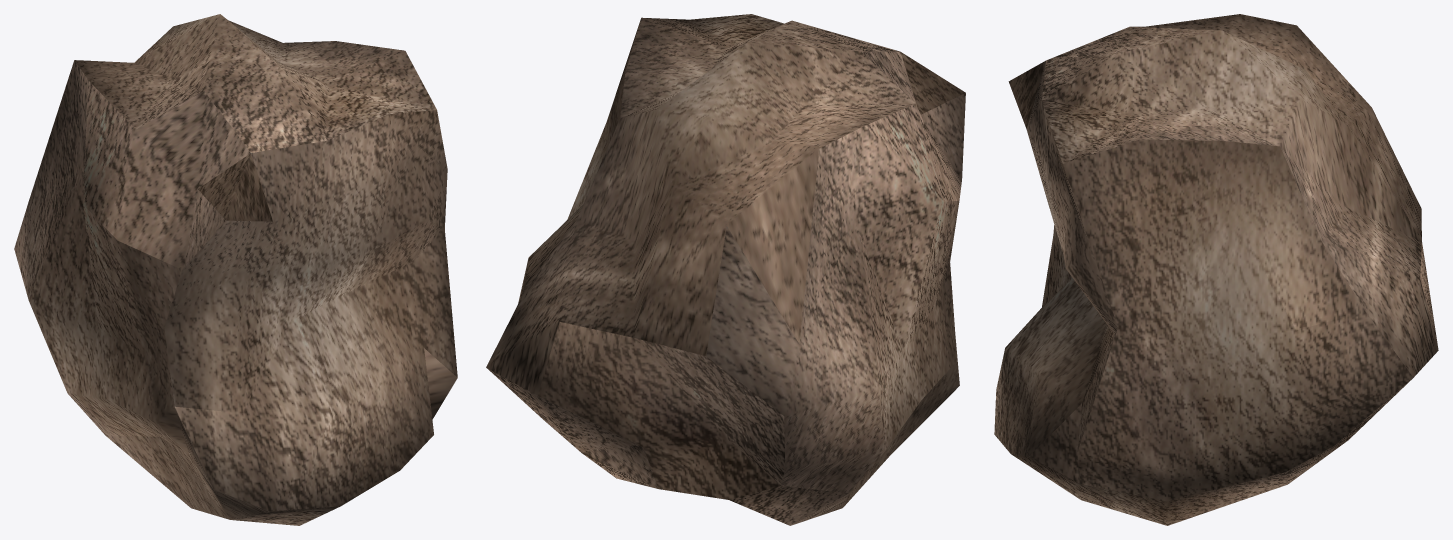
Rendered from Asteroid1.fbx.
The picture shows the model from 3 angles, left to right: view 1: azimuth 30°, elevation 25°; view 2: azimuth 150°, elevation 25°; view 3: azimuth 270°, elevation 25°; orthographic projection. The views are drawn at different scales.
Parts seen in each view (by area): view 1: Asteroid1; view 2: Asteroid1; view 3: Asteroid1.
Part boxes in pixels (x1=…): Asteroid1: x1=14, y1=14, x2=457, y2=525; Asteroid1: x1=486, y1=14, x2=965, y2=525; Asteroid1: x1=994, y1=14, x2=1438, y2=525.
Bounding box in the file's own units: 393 × 505 × 447.
